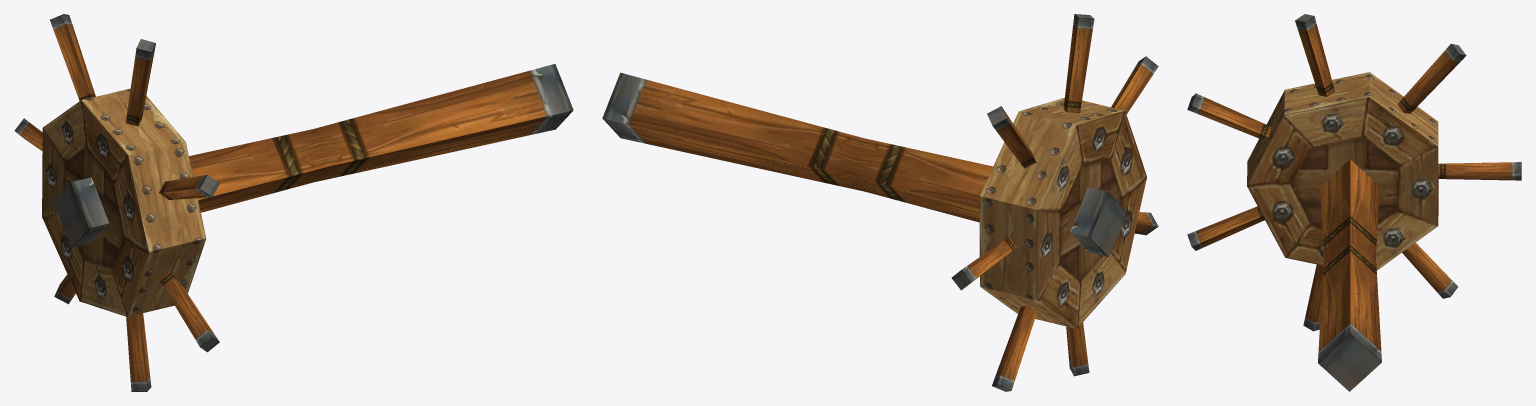
File: environment_common_muban_002_a.FBX
3 renders of one model, left to right at view 1: azimuth 30°, elevation 25°; view 2: azimuth 150°, elevation 25°; view 3: azimuth 270°, elevation 25°, orthographic. The views are drawn at different scales.
Visible parts, largest first — view 1: environment_common_muban_002_a1, environment_common_muban_002_a2; view 2: environment_common_muban_002_a1, environment_common_muban_002_a2; view 3: environment_common_muban_002_a1, environment_common_muban_002_a2.
Boxes of the visible parts, x1=… form: environment_common_muban_002_a1: x1=14, y1=14, x2=219, y2=391; environment_common_muban_002_a2: x1=53, y1=64, x2=573, y2=247; environment_common_muban_002_a1: x1=951, y1=14, x2=1158, y2=391; environment_common_muban_002_a2: x1=602, y1=72, x2=1126, y2=257; environment_common_muban_002_a1: x1=1187, y1=14, x2=1521, y2=331; environment_common_muban_002_a2: x1=1318, y1=159, x2=1381, y2=391.
Size of the model in its own units: 366 by 254 by 246.
